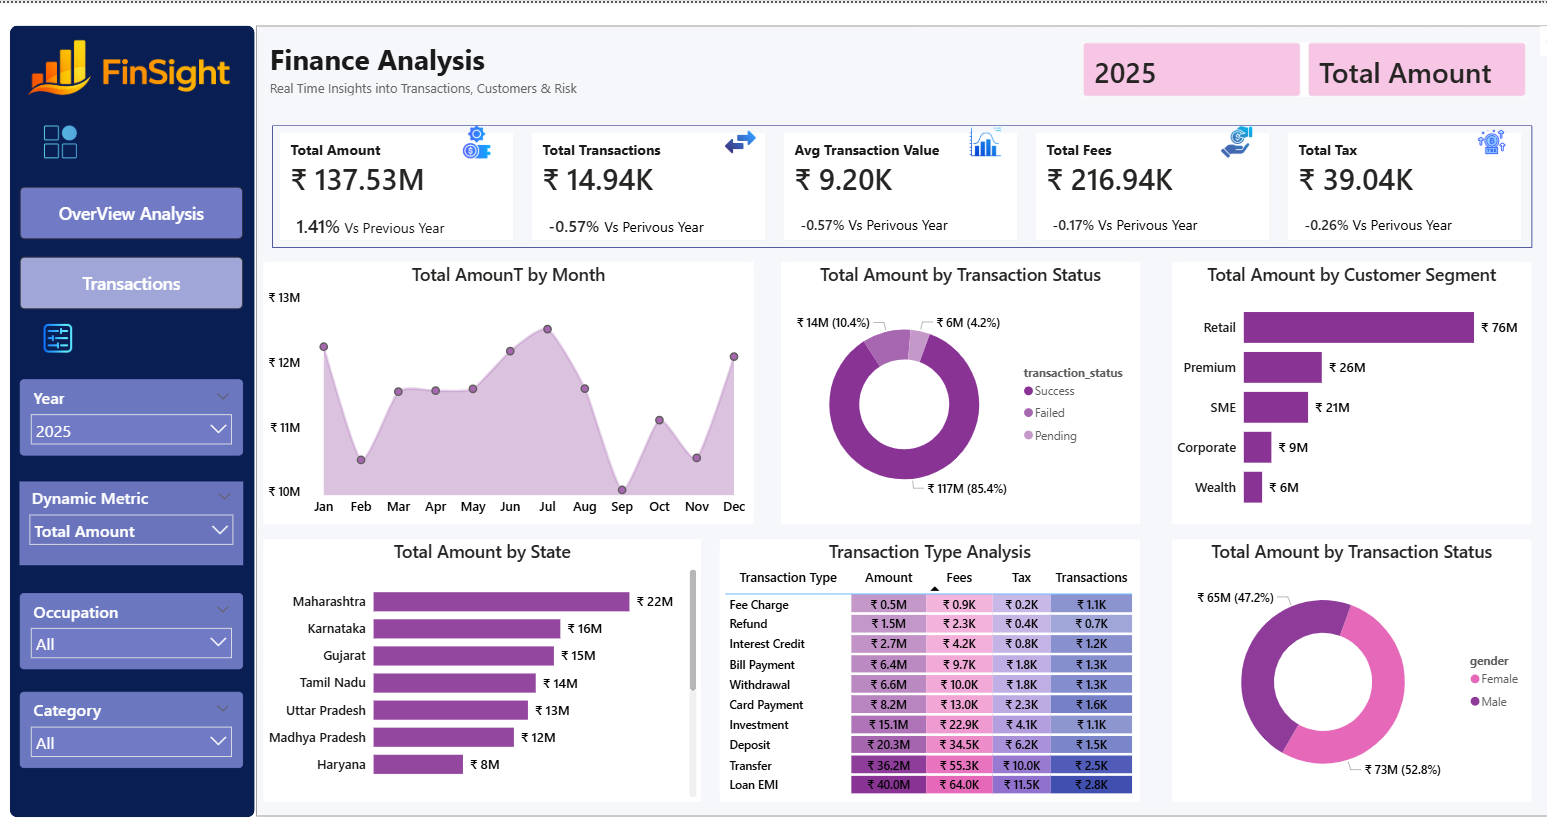

Layout of this report page (visuals, bound fields, positions):
{"tool":"powerbi","page":{"name":"OverView Analysis","canvas":[1800,950],"ordinal":0},"visuals":[{"type":"shape","box":[15,25,280,905],"z":0},{"type":"shape","box":[297.5,25,1502.5,905],"z":1000},{"type":"image","box":[27.5,25,255,97.5],"z":2000},{"type":"cardVisual","fields":{"Data":["finance_transactions.Dashboard Title"]},"box":[295.3,25,510.6,97.6],"z":3000},{"type":"cardVisual","fields":{"Data":["finance_transactions.Total Amount","finance_transactions.Total Transactions","finance_transactions.Avg Transaction Value","finance_transactions.Total Fees","finance_transactions.Total Tax"]},"box":[315,140,1440,140],"z":4000},{"type":"slicer","fields":{"Values":["Calendar Table.Year"]},"box":[27.5,430.5,255.3,87.6],"z":5000},{"type":"image","box":[1395,140,47.5,37.5],"z":6000},{"type":"image","box":[827.5,140,47.5,37.5],"z":7000},{"type":"image","box":[525,140,47.5,37.5],"z":8000},{"type":"image","box":[1107.5,140,47.5,37.5],"z":9000},{"type":"image","box":[1685,140,47.5,37.5],"z":10000},{"type":"slicer","fields":{"Values":["Dynamic Metric.Dynamic Metric"]},"box":[27.5,547.5,255,95],"z":11000},{"type":"shape","box":[305,295,560,300],"z":12000},{"type":"areaChart","title":"Total AmounT by Month","fields":{"Y":["finance_transactions.Total Amount"],"Category":["Calendar Table.Month"]},"box":[305,295,560,300],"z":13000},{"type":"cardVisual","fields":{"Data":["finance_transactions.Selected Year","Min(Dynamic Metric.Dynamic Title)"]},"box":[1237.5,40,517.5,72.5],"z":14000},{"type":"shape","box":[897.5,295,410,300],"z":15000},{"type":"donutChart","title":"Total Amount by Transaction Status","fields":{"Y":["finance_transactions.Total Amount"],"Category":["finance_transactions.transaction_status"]},"box":[897.5,295,410,300],"z":16000},{"type":"shape","box":[1345,295,410,300],"z":17000},{"type":"shape","box":[305,612.5,500,300],"z":18000},{"type":"shape","box":[827.5,612.5,480,300],"z":19000},{"type":"shape","box":[1345,612.5,410,300],"z":20000},{"type":"barChart","title":"Total Amount by Customer Segment","fields":{"Y":["finance_transactions.Total Amount"],"Category":["customers.customer_segment"]},"box":[1345,295,410,300],"z":21000},{"type":"barChart","title":"Total Amount by State","fields":{"Y":["finance_transactions.Total Amount"],"Category":["customers.state"]},"box":[305,612.5,500,300],"z":22000},{"type":"tableEx","title":"Transaction Type Analysis","fields":{"Values":["finance_transactions.transaction_type","finance_transactions.Total Amount","finance_transactions.Total Fees","finance_transactions.Total Tax","finance_transactions.Total Transactions"]},"box":[827.5,612.5,480,300],"z":23000},{"type":"donutChart","title":"Total Amount by Transaction Status","fields":{"Y":["finance_transactions.Total Amount"],"Category":["customers.gender"]},"box":[1345,612.5,410,300],"z":24000},{"type":"slicer","fields":{"Values":["customers.occupation"]},"box":[27.5,675,255,87.5],"z":25000},{"type":"slicer","fields":{"Values":["finance_transactions.merchant_category"]},"box":[27.5,787.5,255,87.5],"z":26000},{"type":"pageNavigator","box":[27.5,210,255,140],"z":27000},{"type":"image","box":[50,140,47.5,37.5],"z":28000},{"type":"image","box":[47.5,365,47.5,37.5],"z":29000}]}

Visuals, with their boxes in screenshot pixels (x1, y1, x2, y2), scaled from the page's 1800x950 canvas onto the 1547x831 screenshot:
shape: 13:22:254:814
shape: 256:22:1546:814
image: 24:22:243:107
cardVisual - finance_transactions.Dashboard Title: 254:22:693:107
cardVisual - finance_transactions.Total Amount x finance_transactions.Total Transactions: 271:122:1508:245
slicer - Calendar Table.Year: 24:377:243:453
image: 1199:122:1240:155
image: 711:122:752:155
image: 451:122:492:155
image: 952:122:993:155
image: 1448:122:1489:155
slicer - Dynamic Metric.Dynamic Metric: 24:479:243:562
shape: 262:258:743:520
"Total AmounT by Month" areaChart: 262:258:743:520
cardVisual - finance_transactions.Selected Year x Min(Dynamic Metric.Dynamic Title): 1064:35:1508:98
shape: 771:258:1124:520
"Total Amount by Transaction Status" donutChart: 771:258:1124:520
shape: 1156:258:1508:520
shape: 262:536:692:798
shape: 711:536:1124:798
shape: 1156:536:1508:798
"Total Amount by Customer Segment" barChart: 1156:258:1508:520
"Total Amount by State" barChart: 262:536:692:798
"Transaction Type Analysis" tableEx: 711:536:1124:798
"Total Amount by Transaction Status" donutChart: 1156:536:1508:798
slicer - customers.occupation: 24:590:243:667
slicer - finance_transactions.merchant_category: 24:689:243:765
pageNavigator: 24:184:243:306
image: 43:122:84:155
image: 41:319:82:352
